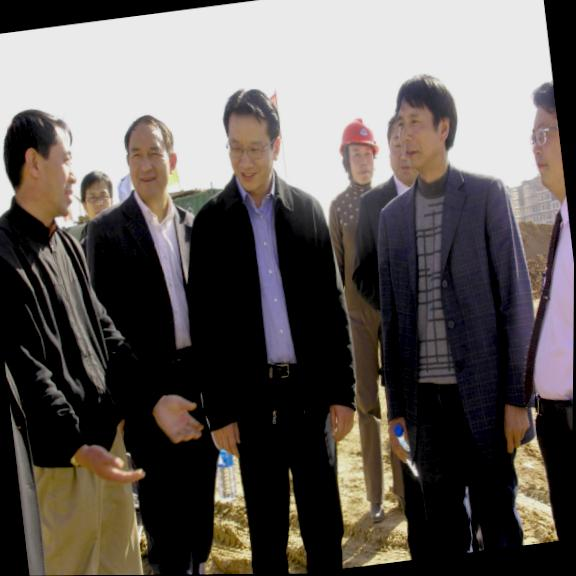no_safety_vest: (167, 167, 369, 456), (355, 159, 552, 439), (70, 186, 227, 467), (0, 201, 138, 479), (500, 186, 575, 424), (316, 172, 394, 338)
